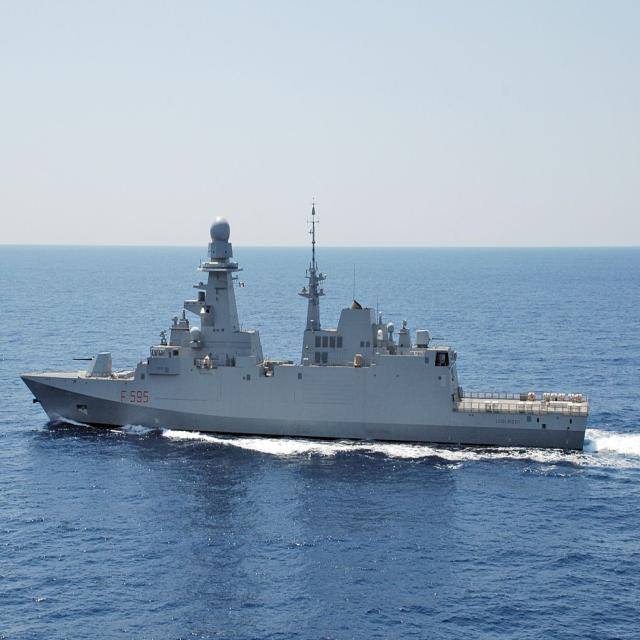navalvessels: (18, 200, 589, 493)
